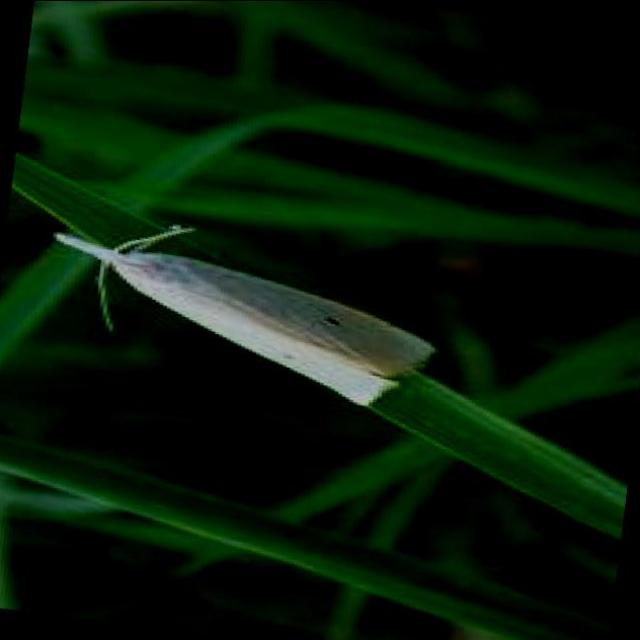stem borer: (56, 226, 433, 405)
